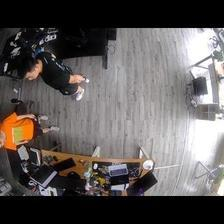normal: (18, 51, 89, 101), (1, 112, 59, 150)
